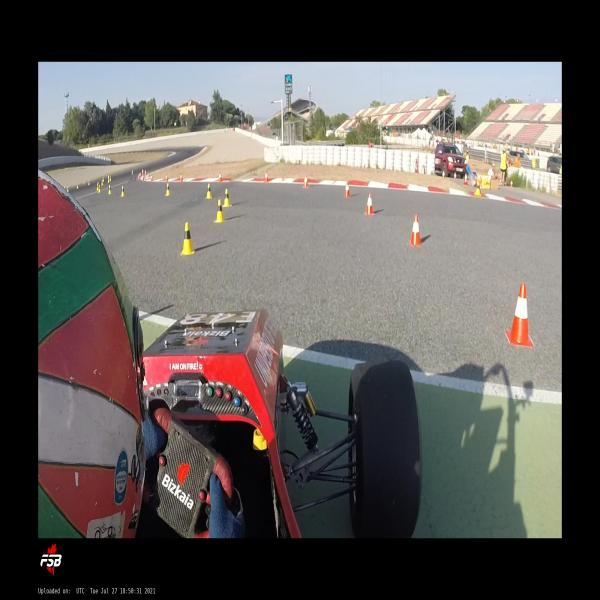orange_cone: (506, 284, 532, 346), (409, 214, 421, 246), (364, 193, 374, 216), (344, 181, 351, 198), (302, 174, 308, 188), (264, 170, 269, 183), (464, 172, 468, 185), (218, 171, 222, 182), (179, 173, 183, 182), (510, 179, 514, 188), (164, 174, 168, 182), (442, 170, 445, 179), (142, 174, 145, 181), (454, 171, 456, 181), (83, 180, 86, 186), (150, 174, 152, 182), (138, 174, 140, 180), (139, 172, 141, 177), (132, 170, 134, 175), (142, 169, 143, 175), (145, 170, 146, 175)
yellow_cone: (180, 222, 195, 255), (214, 199, 224, 222), (222, 189, 231, 206), (474, 179, 481, 196), (205, 184, 212, 199), (164, 183, 171, 196), (120, 185, 124, 197), (108, 185, 111, 194), (96, 183, 99, 192), (109, 175, 112, 182), (76, 182, 79, 189), (98, 185, 100, 193), (102, 176, 104, 184), (107, 175, 109, 183), (88, 178, 90, 186), (101, 179, 103, 186), (67, 186, 69, 192)
